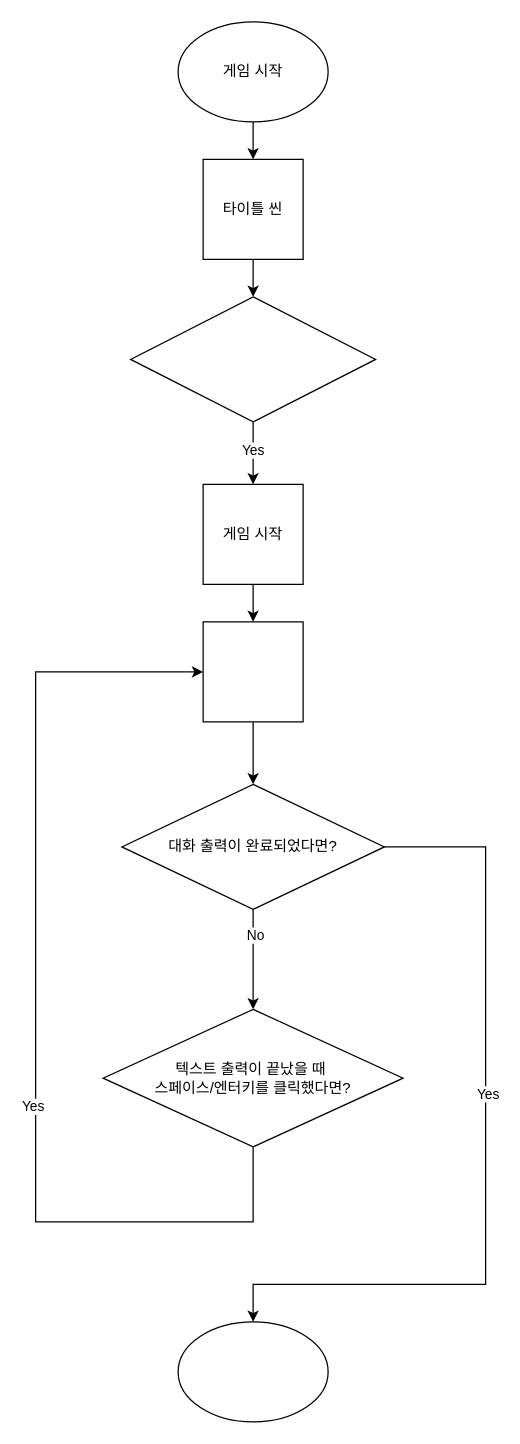
Image size: 520x1444. Some labels were removed from this diagram. The centre of each missing label's shape, as x and y in pixels:
"게임 종료" belongs at (x=252, y=1371).
"게임 플레이를 선택했다면?" belongs at (x=252, y=359).
"대화 출력" belongs at (x=252, y=671).
